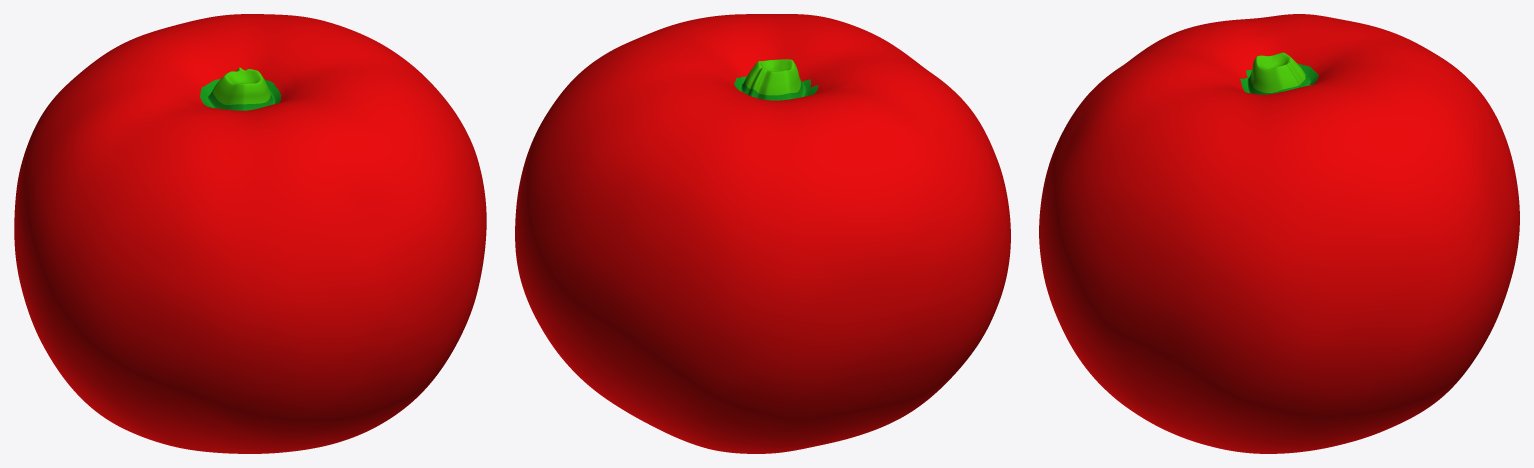
The model's file is TOMAYO.fbx.
3 views of the same model, side by side, from view 1: azimuth 30°, elevation 25°; view 2: azimuth 150°, elevation 25°; view 3: azimuth 270°, elevation 25° (orthographic).
Parts seen in each view (by area): view 1: Tomato_01; view 2: Tomato_01; view 3: Tomato_01.
Part boxes in pixels (x1,y1,x2,y2): Tomato_01: (14, 14, 486, 453); Tomato_01: (515, 14, 1010, 453); Tomato_01: (1039, 14, 1519, 453).
Size of the model in its own units: 39.36 by 31.66 by 37.97.
